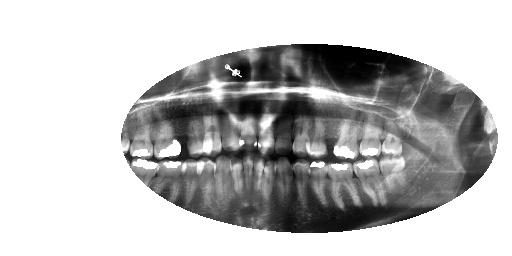decay: (221, 105, 242, 153)
i10decay: (231, 158, 243, 208)
i11healthy: (215, 156, 232, 206)
i12healthy: (198, 159, 216, 208)
i13healthy: (180, 162, 197, 207)
i14healthy: (159, 159, 182, 205)
i15healthy: (131, 161, 158, 188)
i16healthy: (112, 157, 130, 180)
i1healthy: (379, 161, 412, 194)
i2healthy: (353, 160, 386, 206)
i3healthy: (327, 163, 360, 215)
i4healthy: (309, 160, 330, 212)
i5decay: (292, 160, 313, 214)
i6decau: (273, 159, 292, 220)
i7decay: (262, 160, 273, 215)
i8healthy: (253, 157, 263, 218)
i9decay: (239, 158, 255, 212)
u11healthy: (200, 113, 223, 156)
u12healthy: (188, 114, 204, 158)
u13loss: (179, 110, 191, 156)
u14healthy: (154, 115, 182, 161)
u15healthy: (130, 120, 155, 159)
u16healthy: (120, 128, 130, 155)
u1healthy: (381, 131, 404, 156)
u2healthy: (358, 126, 381, 157)
u3healthy: (332, 120, 361, 160)
u4loss: (326, 114, 336, 159)
u5healthy: (305, 116, 329, 158)
u6decay: (293, 113, 307, 158)
u7decay: (274, 113, 293, 155)
u8chipped: (258, 112, 274, 154)
u9decay: (242, 113, 257, 154)
